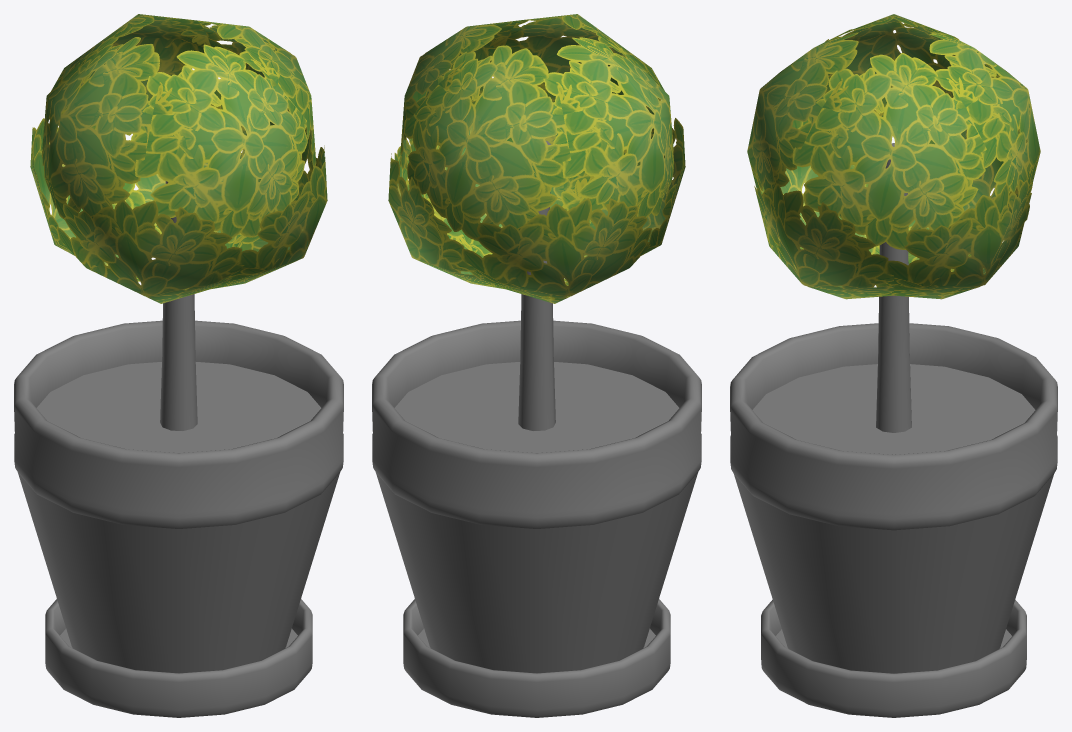
Rendered from PlantTest.fbx.
The picture shows the model from 3 angles, left to right: view 1: azimuth 30°, elevation 25°; view 2: azimuth 150°, elevation 25°; view 3: azimuth 270°, elevation 25°; orthographic projection.
Parts seen in each view (by area): view 1: 010, Plane364, Plane363, Plane367, Plane368, Cylinder297, Plane365, Plane362, Plane366, Plane369; view 2: 010, Plane362, Plane363, Plane366, Plane369, Cylinder297, Plane365, Plane364, Plane367, Plane368; view 3: 010, Plane365, Plane369, Plane368, Plane362, Plane364, Cylinder297, Plane363, Plane366, Plane367.
Boxes of the visible parts, left/top/right/bottom form: 010: left=14, top=320, right=343, bottom=717; Plane364: left=133, top=44, right=307, bottom=237; Plane363: left=41, top=36, right=173, bottom=219; Plane367: left=57, top=199, right=244, bottom=303; Plane368: left=206, top=145, right=327, bottom=289; Cylinder297: left=160, top=181, right=197, bottom=430; Plane365: left=181, top=21, right=316, bottom=167; Plane362: left=51, top=14, right=225, bottom=135; Plane366: left=30, top=118, right=161, bottom=281; Plane369: left=112, top=90, right=297, bottom=251; 010: left=372, top=320, right=701, bottom=717; Plane362: left=404, top=45, right=580, bottom=241; Plane363: left=543, top=37, right=673, bottom=217; Plane366: left=461, top=198, right=651, bottom=303; Plane369: left=388, top=146, right=503, bottom=288; Cylinder297: left=518, top=141, right=555, bottom=430; Plane365: left=400, top=19, right=528, bottom=170; Plane364: left=489, top=14, right=664, bottom=132; Plane367: left=561, top=118, right=685, bottom=281; Plane368: left=423, top=125, right=591, bottom=255; 010: left=730, top=323, right=1057, bottom=717; Plane365: left=792, top=53, right=986, bottom=249; Plane369: left=876, top=179, right=1032, bottom=299; Plane368: left=754, top=183, right=893, bottom=299; Plane362: left=929, top=32, right=1040, bottom=195; Plane364: left=747, top=29, right=858, bottom=194; Cylinder297: left=876, top=143, right=911, bottom=432; Plane363: left=825, top=14, right=988, bottom=116; Plane366: left=908, top=129, right=1029, bottom=271; Plane367: left=760, top=111, right=910, bottom=254.
Bounding box in the file's own units: 9.47 × 19.83 × 9.33.
Materials: 2 (1 with a texture image).
